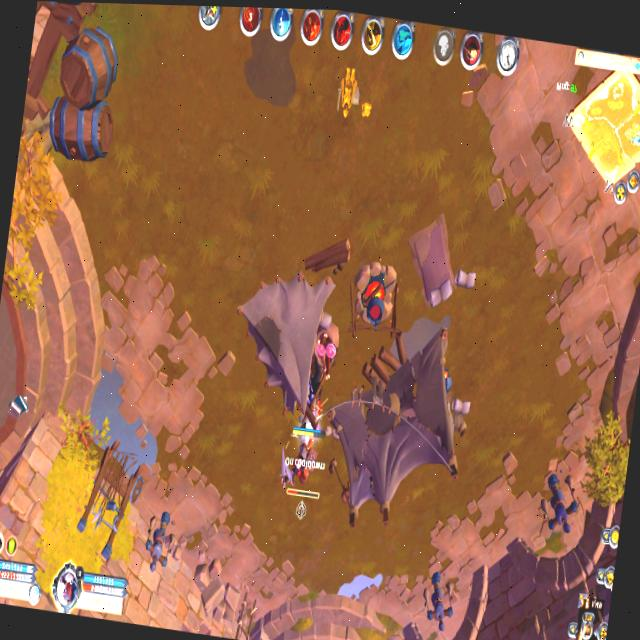ore: (274, 424, 329, 527)
red: (300, 323, 342, 437)
